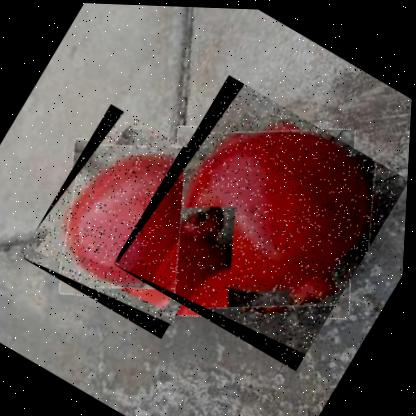pomegranate: (113, 68, 412, 371), (20, 99, 261, 341)
